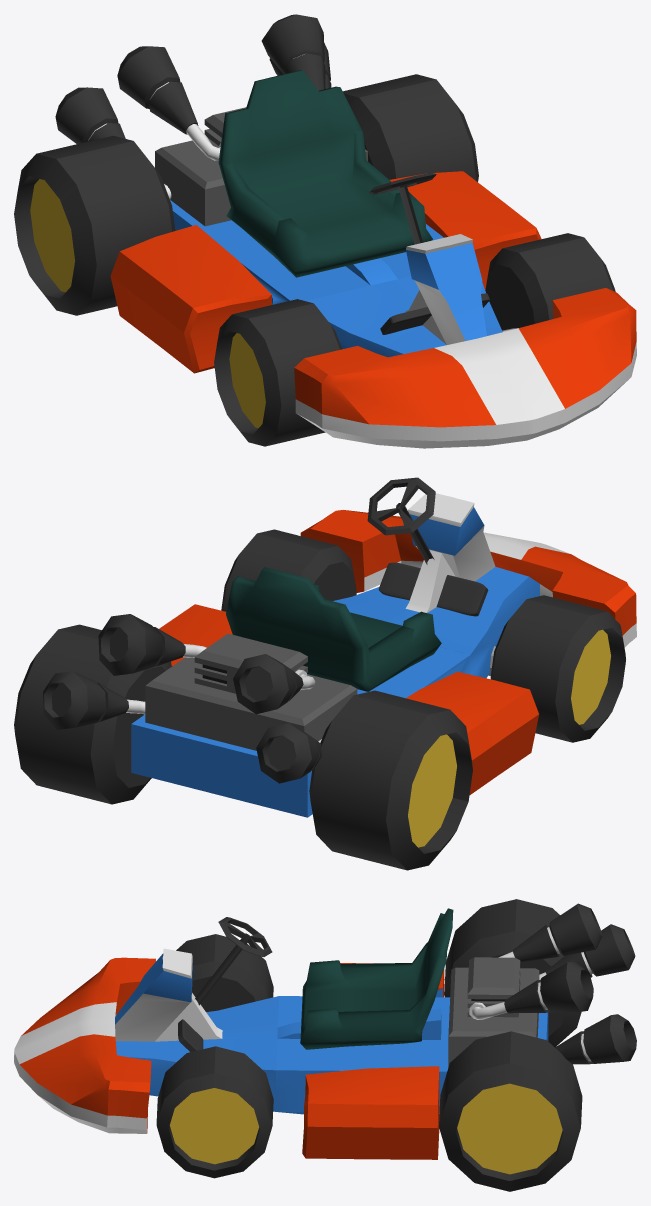
The model's file is GoKart_Player.fbx.
3 renders of one model, top to bottom at view 1: azimuth 30°, elevation 25°; view 2: azimuth 150°, elevation 25°; view 3: azimuth 270°, elevation 25°, orthographic. The views are drawn at different scales.
Parts seen in each view (by area): view 1: GoKart_Red_Combined; view 2: GoKart_Red_Combined; view 3: GoKart_Red_Combined.
Part boxes in pixels (x1,y1,x2,y2): GoKart_Red_Combined: [14, 14, 636, 448]; GoKart_Red_Combined: [14, 477, 636, 870]; GoKart_Red_Combined: [14, 899, 636, 1191].
Bounding box in the file's own units: 5.94 × 3.23 × 9.38.
